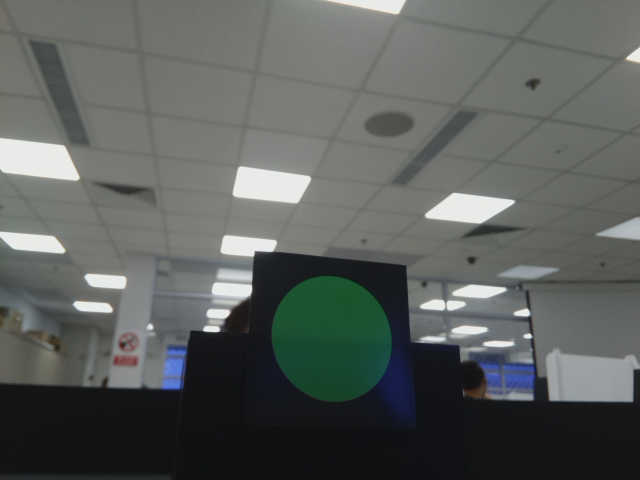go: (266, 260, 402, 405)
